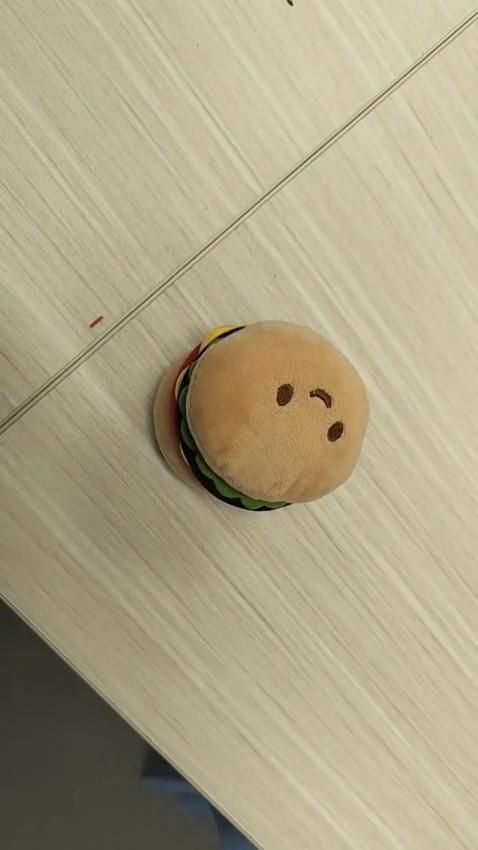hamburger: (152, 318, 370, 512)
